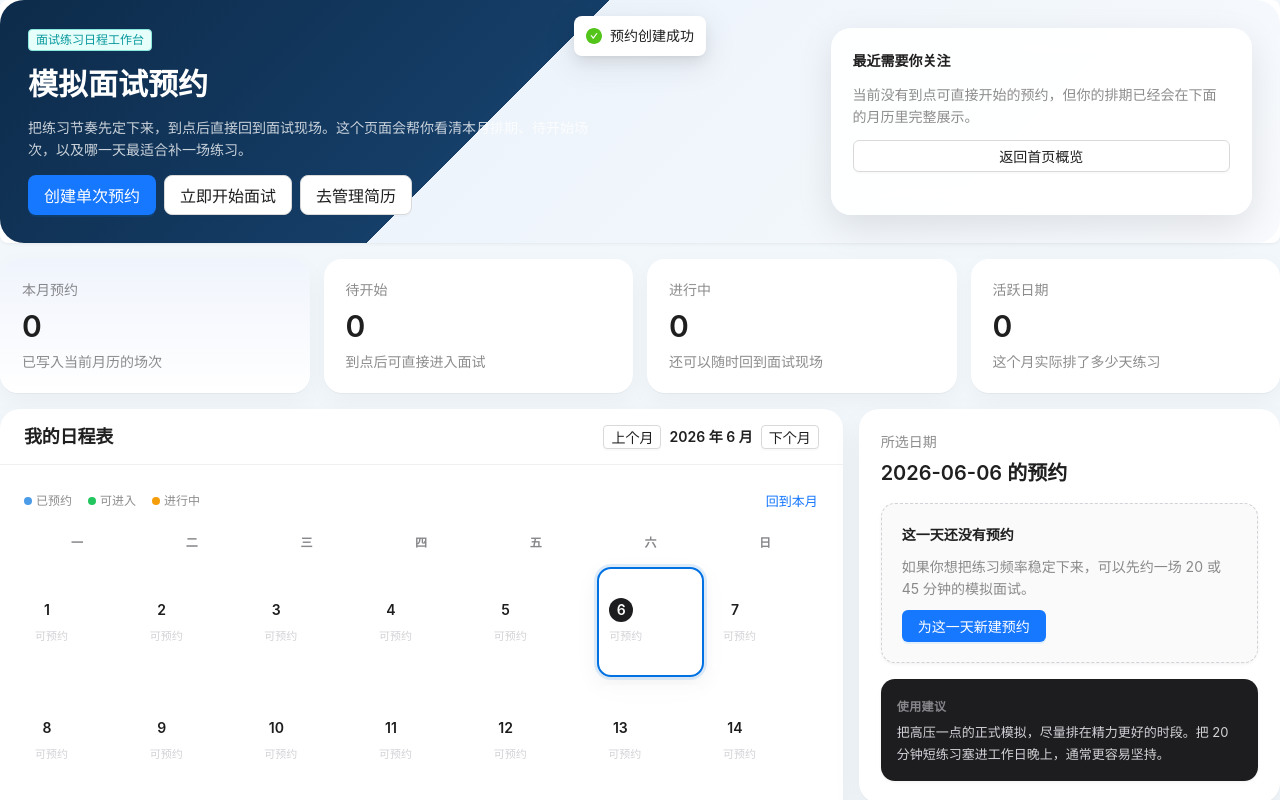
Test: InterviewSchedulePage › should prefill selected empty date to 20:00 when creating from empty day
The image size is (1280, 800).
Click the button "为这一天新建预约" at [974, 626], box [902,610,1046,642]
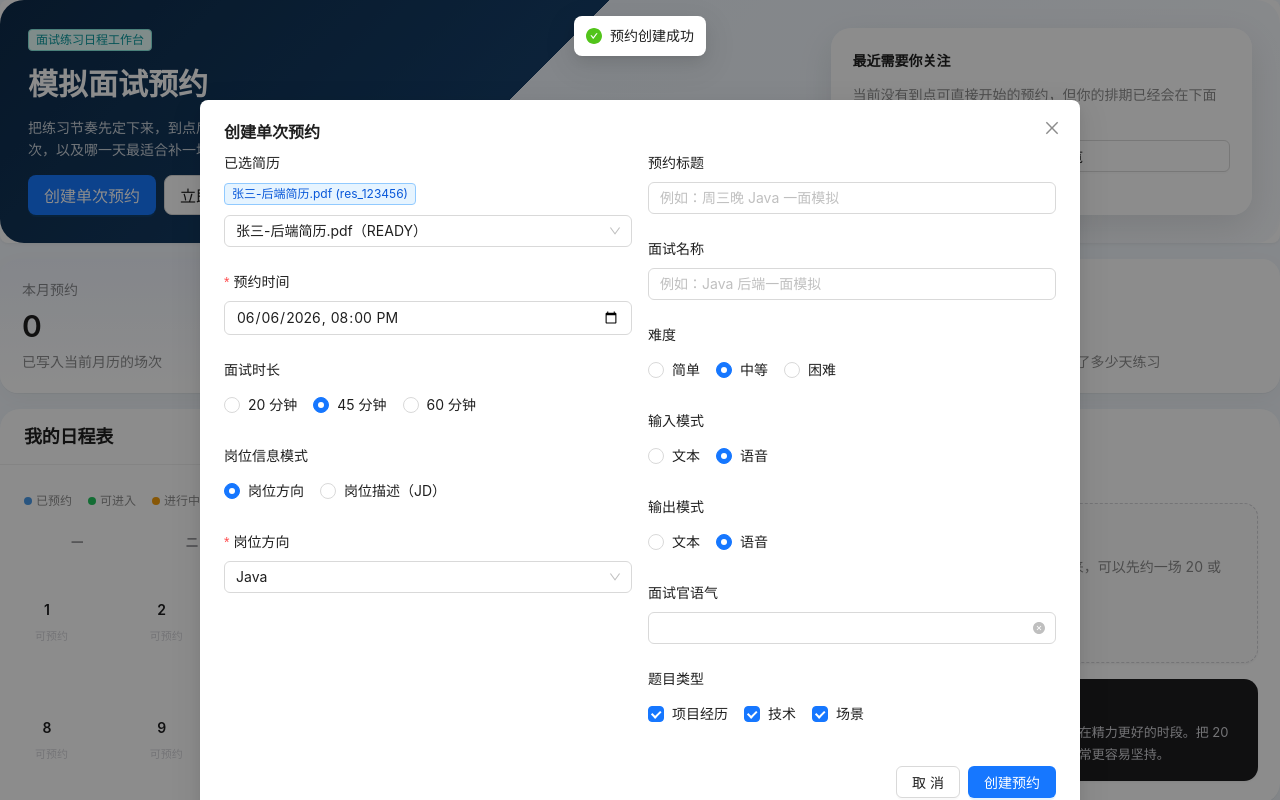
Expected: the dialog is shown
Expected: the field labelled "预约时间" holds "2026-06-06T20:00", [224,301,632,335]
